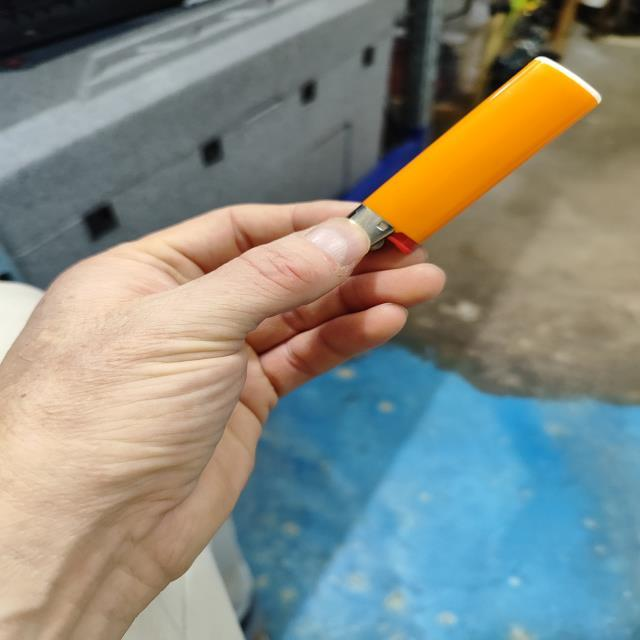lighter: (349, 57, 600, 252)
